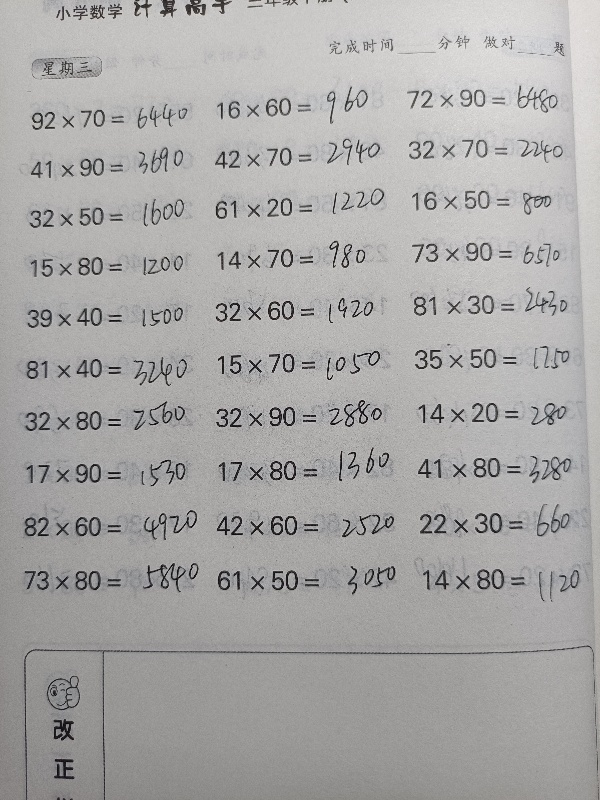equation: (410, 499, 590, 548), (414, 561, 594, 609), (208, 344, 388, 389), (405, 279, 585, 324), (409, 448, 589, 491), (398, 76, 578, 118), (406, 335, 586, 376), (206, 292, 386, 332), (403, 234, 583, 273), (207, 396, 387, 434), (22, 100, 202, 138), (209, 563, 389, 598), (17, 563, 197, 598), (16, 509, 196, 544), (208, 508, 388, 543), (18, 456, 198, 491), (210, 453, 390, 488), (16, 403, 196, 438), (409, 395, 589, 430), (17, 351, 197, 386), (18, 299, 198, 334), (21, 249, 201, 284), (208, 241, 388, 276), (206, 190, 386, 225), (399, 131, 579, 166), (21, 200, 201, 234), (402, 183, 582, 217), (21, 150, 201, 184), (206, 140, 386, 174), (208, 91, 388, 125)
